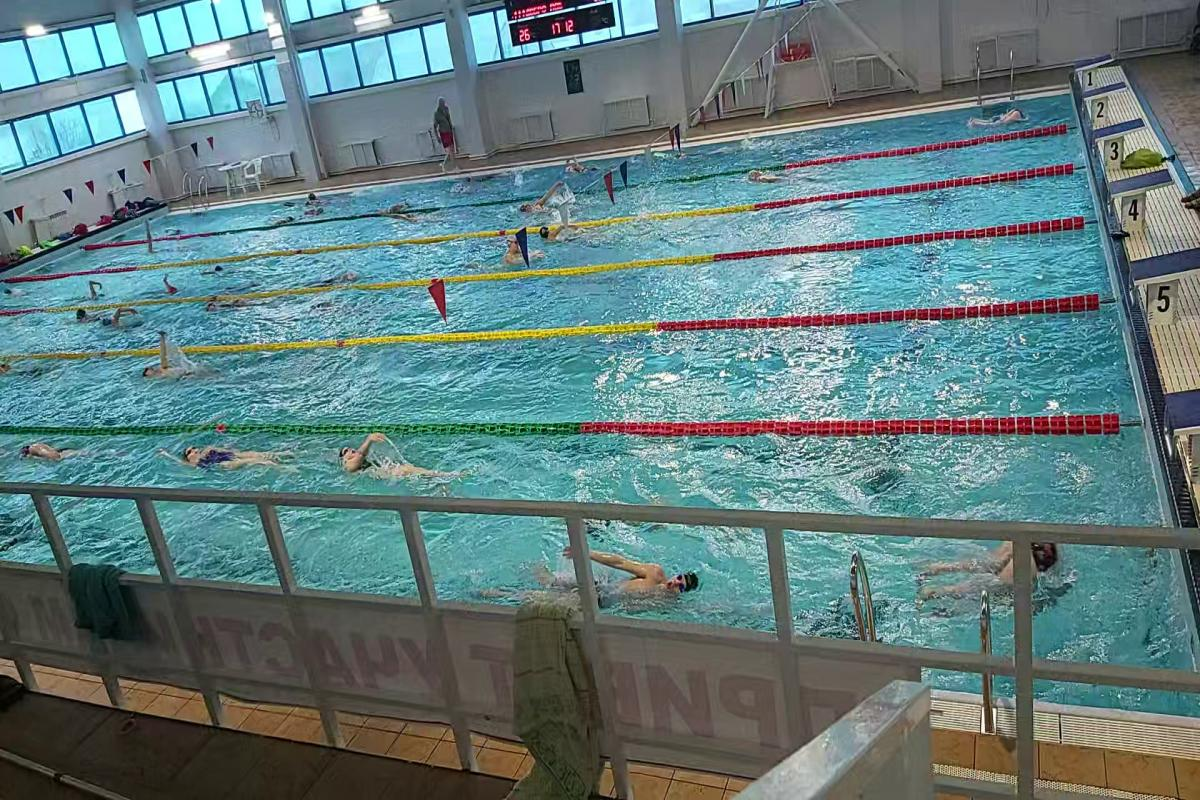swimmer: (526, 534, 706, 616), (916, 526, 1070, 610), (328, 427, 480, 495), (155, 427, 310, 483), (131, 335, 221, 391), (13, 436, 104, 472), (741, 164, 823, 192), (490, 230, 532, 271), (510, 193, 578, 216), (203, 298, 266, 321), (537, 218, 585, 248), (100, 306, 142, 331), (320, 268, 376, 284), (155, 270, 184, 298), (66, 303, 96, 330), (76, 280, 116, 299)
